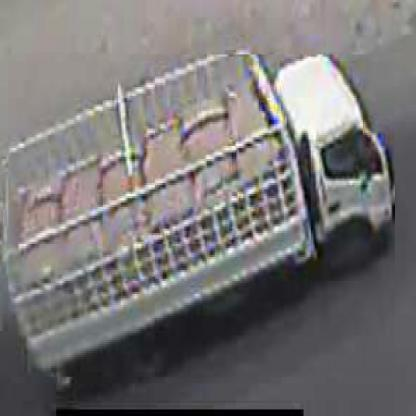truck: (8, 55, 396, 380)
